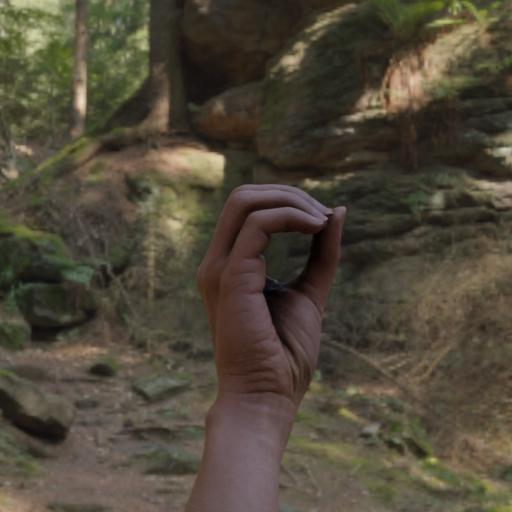O: (189, 180, 349, 416)
